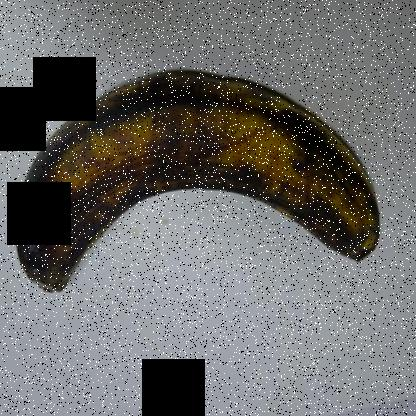overripe: (5, 15, 408, 317)
